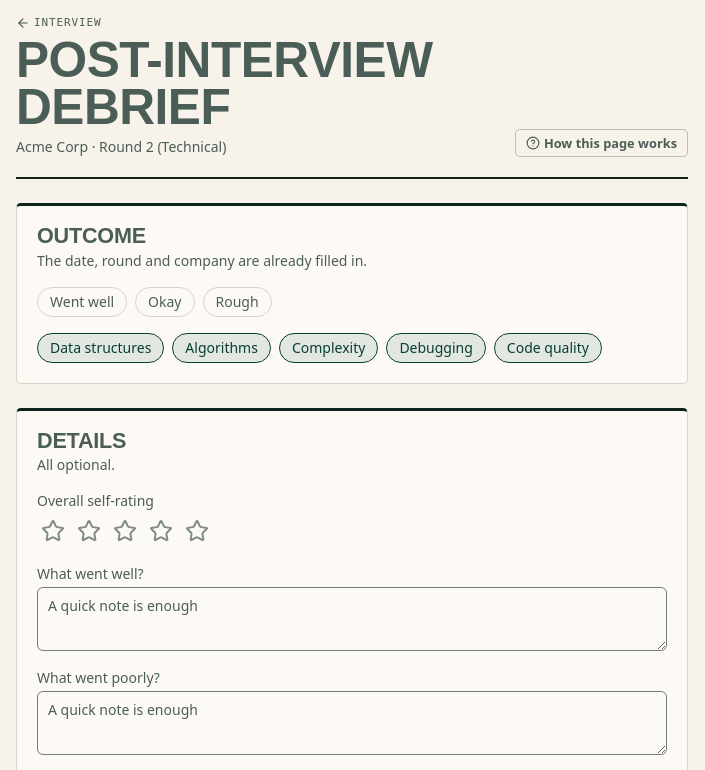
Test: debrief input guardrails › Edit hides the warning and returns focus to the field
Type "the tea there was not good" into the text box labelled "What went well?" at x=352, y=620, box [37, 588, 667, 652]
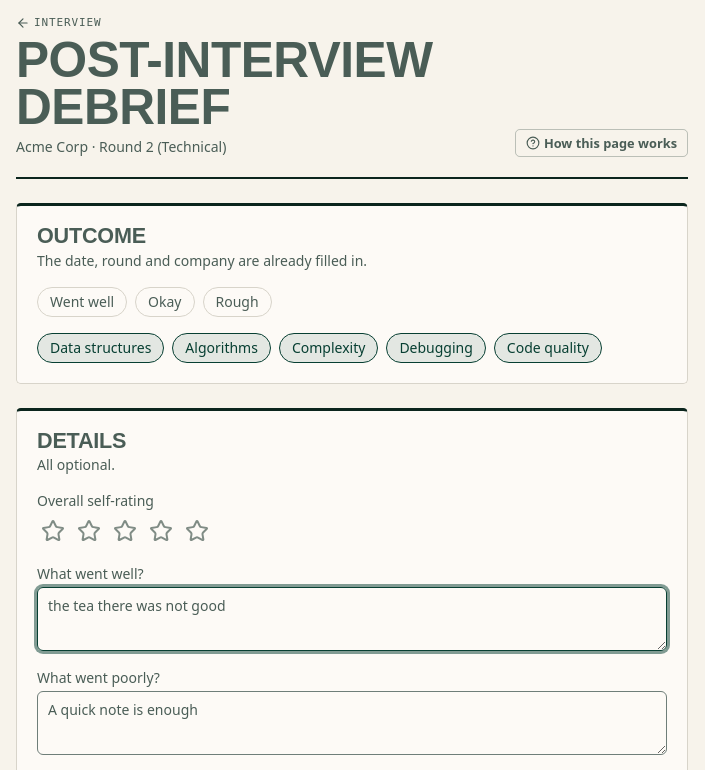
Press Tab
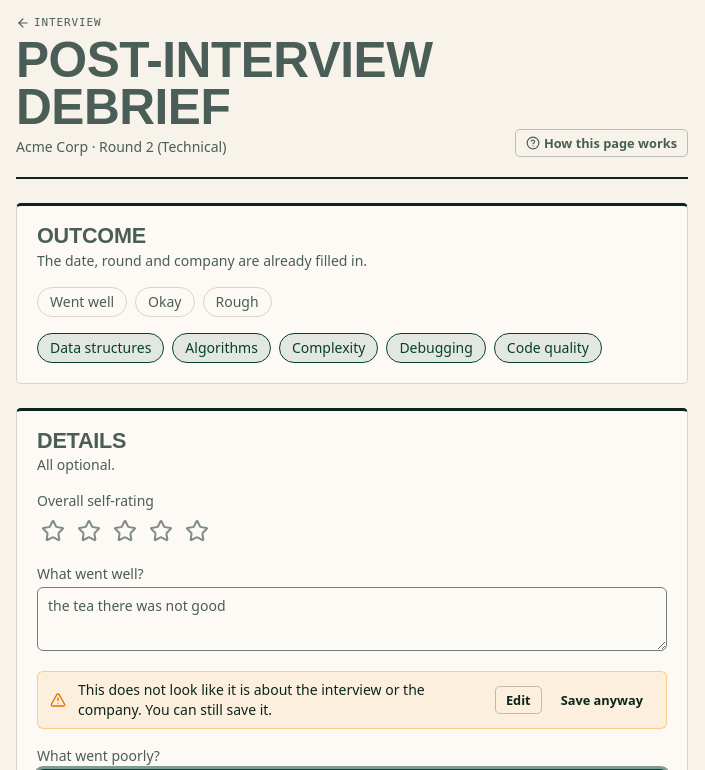
Click the button "Edit" at x=518, y=700, box [495, 686, 542, 714]
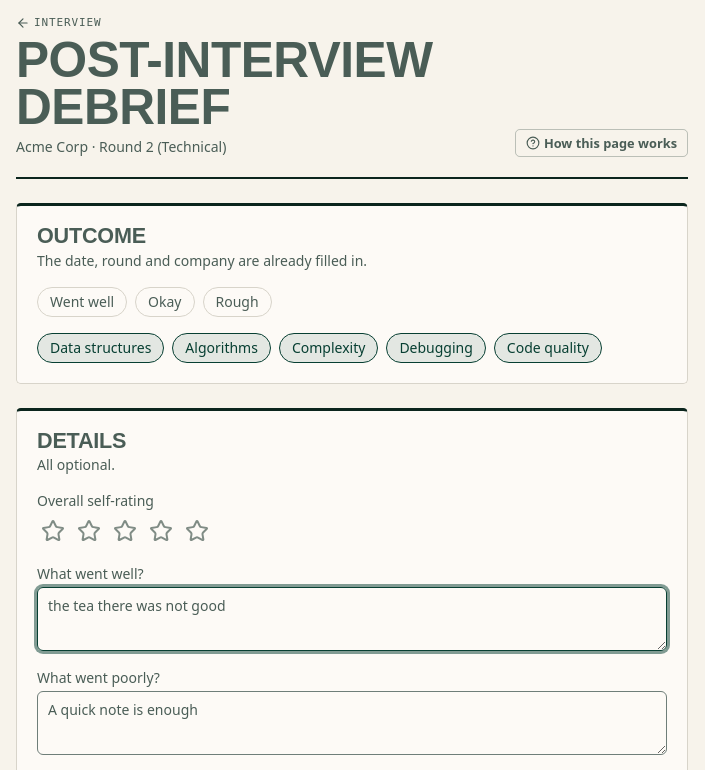
Expected: the message "This does not look like it is about the interview or the company. You can still" is gone
